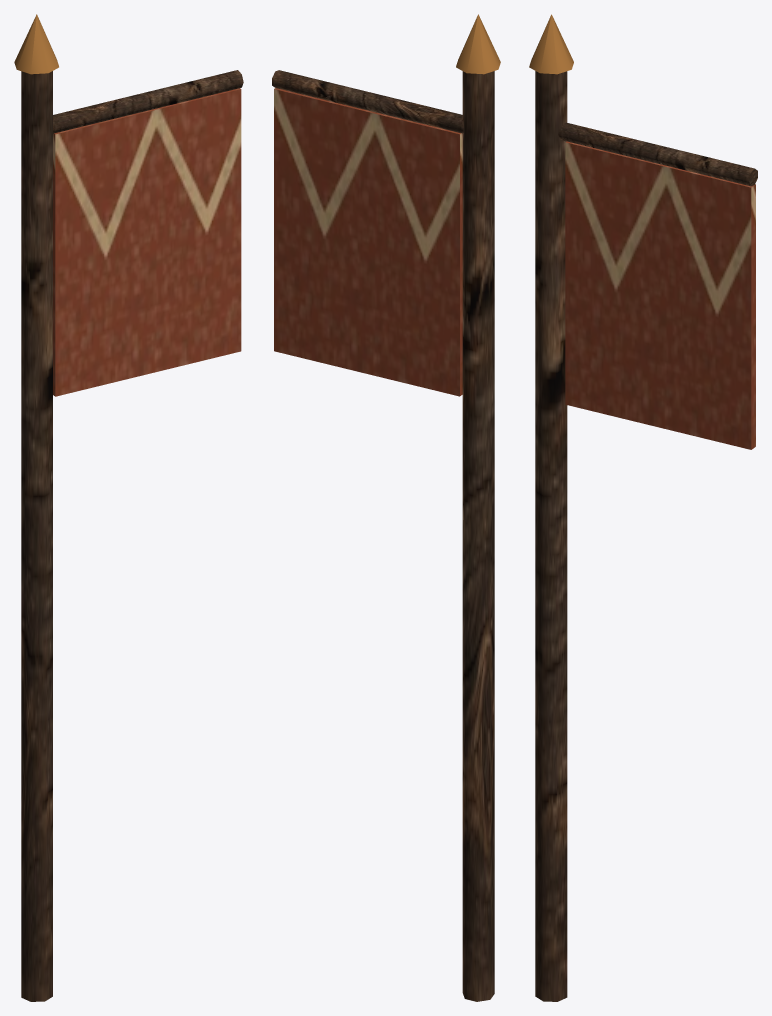
Rendered from banner.glb.
3 renders of one model, left to right at view 1: azimuth 30°, elevation 25°; view 2: azimuth 150°, elevation 25°; view 3: azimuth 330°, elevation 25°, orthographic.
Parts seen in each view (by area): view 1: part_1, part_0, part_2; view 2: part_1, part_0, part_2; view 3: part_1, part_0, part_2.
Boxes of the visible parts, x1,y1,x2,y2 form: part_1: [53, 88, 241, 396]; part_0: [21, 70, 243, 1001]; part_2: [14, 14, 58, 74]; part_1: [274, 88, 462, 396]; part_0: [272, 70, 494, 1001]; part_2: [456, 14, 500, 74]; part_1: [565, 141, 755, 449]; part_0: [535, 71, 757, 1001]; part_2: [529, 14, 573, 74].
Bounding box in the file's own units: 0.55 × 2.32 × 0.1.
Materials: 3 (2 with a texture image).
